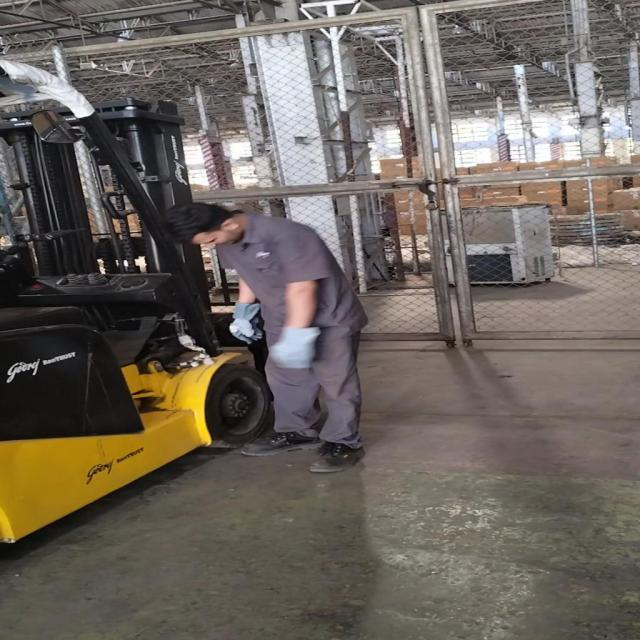Gloves-Detection: (273, 319, 313, 369), (230, 299, 274, 341)
